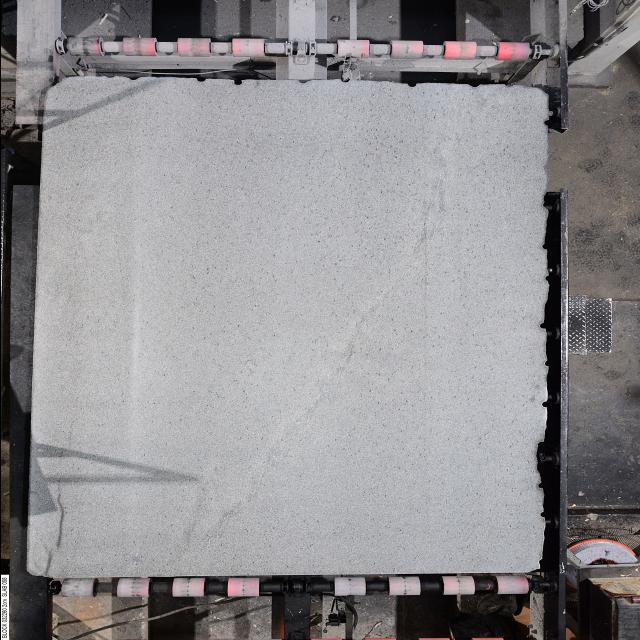chapa: (28, 78, 548, 578)
veio: (538, 400, 552, 410), (538, 509, 550, 518), (192, 76, 206, 82), (231, 78, 243, 85), (537, 324, 547, 329)
